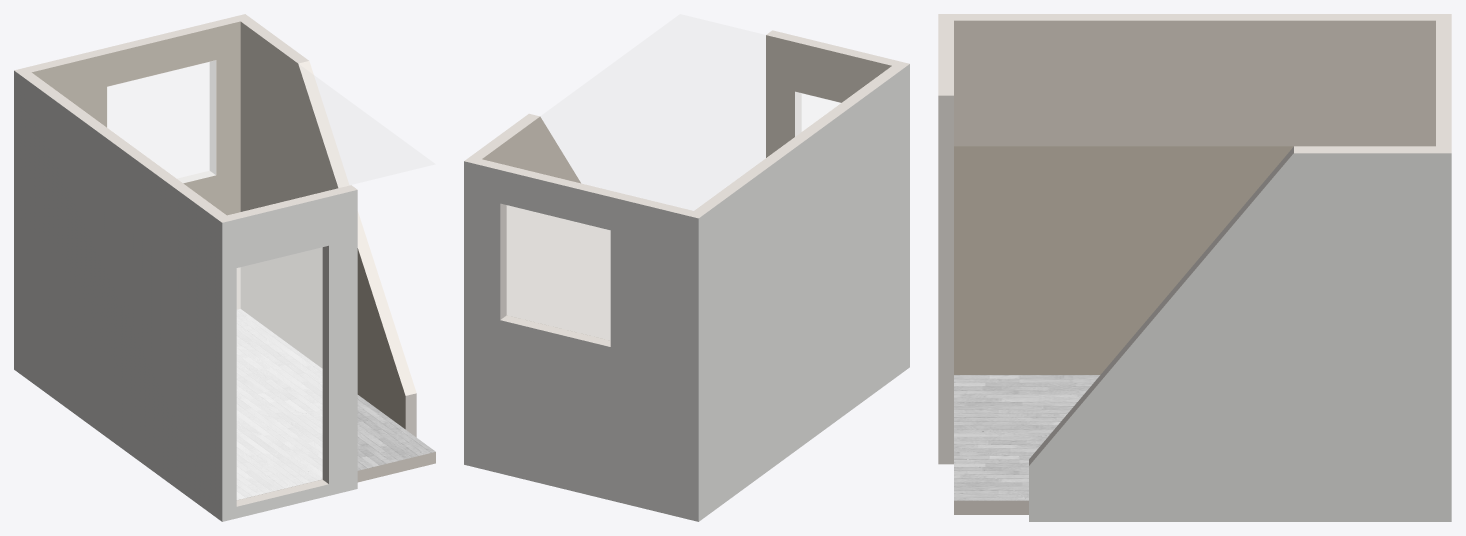
The model's file is sdb_papi.glb.
The picture shows the model from 3 angles, left to right: view 1: azimuth 30°, elevation 25°; view 2: azimuth 150°, elevation 25°; view 3: azimuth 270°, elevation 25°; orthographic projection. The views are drawn at different scales.
Visible parts, largest first — view 1: wall_0 (×2), door_0 (×2), ceiling_Other_0, wall_1 (×2), wall_3 (×3), window_0 (×2), floor_Other_0 (×2), wall_2 (×3); view 2: wall_0 (×2), wall_2 (×3), ceiling_Other_0, window_0 (×2), wall_1 (×2), wall_3 (×2), door_0 (×2); view 3: wall_0 (×2), wall_1 (×2), ceiling_Other_0, floor_Other_0 (×2), wall_3 (×2), wall_2.
Boxes of the visible parts, <box> form: wall_0 (×2): <box>14,70,226,521</box>; door_0 (×2): <box>237,247,322,499</box>; ceiling_Other_0: <box>32,22,434,214</box>; wall_1 (×2): <box>240,14,416,429</box>; wall_3 (×3): <box>222,185,357,521</box>; window_0 (×2): <box>107,60,215,182</box>; floor_Other_0 (×2): <box>237,309,435,499</box>; wall_2 (×3): <box>15,14,244,309</box>; wall_0 (×2): <box>694,64,909,521</box>; wall_2 (×3): <box>464,159,698,521</box>; ceiling_Other_0: <box>483,14,890,209</box>; window_0 (×2): <box>507,205,610,340</box>; wall_1 (×2): <box>464,113,610,340</box>; wall_3 (×2): <box>766,30,909,157</box>; door_0 (×2): <box>795,92,840,136</box>; wall_0 (×2): <box>939,14,1450,374</box>; wall_1 (×2): <box>1029,146,1451,521</box>; ceiling_Other_0: <box>954,21,1435,145</box>; floor_Other_0 (×2): <box>954,375,1099,514</box>; wall_3 (×2): <box>938,14,953,464</box>; wall_2: <box>1436,14,1451,152</box>.
Size of the model in its own units: 2.08 by 2.57 by 3.24.
17 materials, 1 textured.
